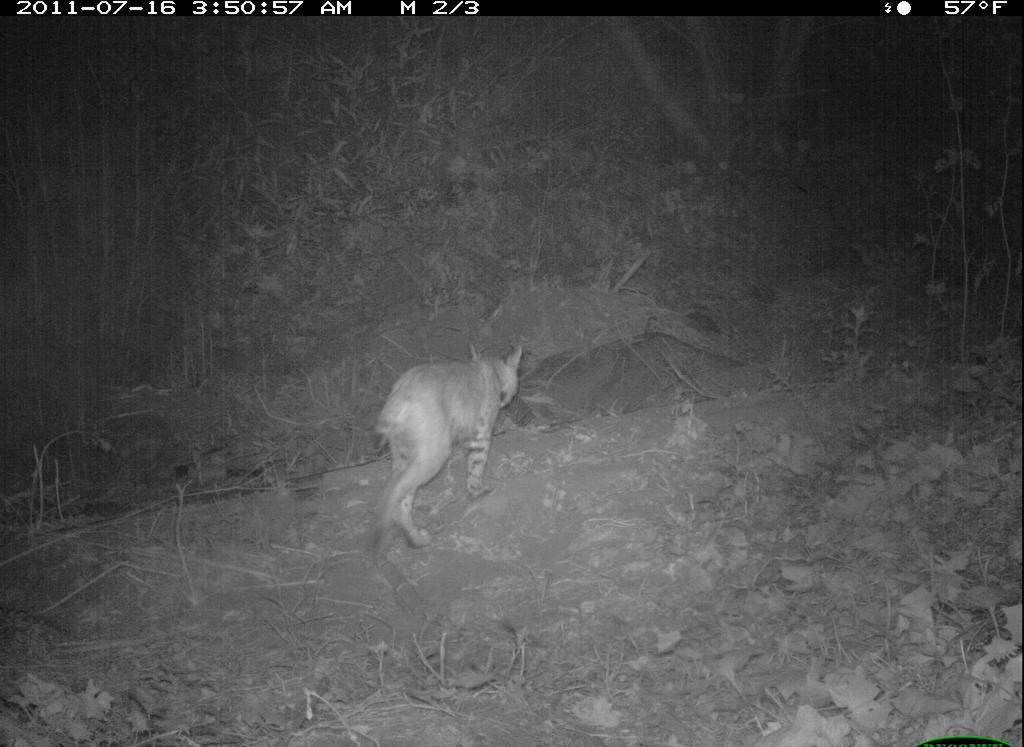bobcat: (355, 335, 539, 562)
